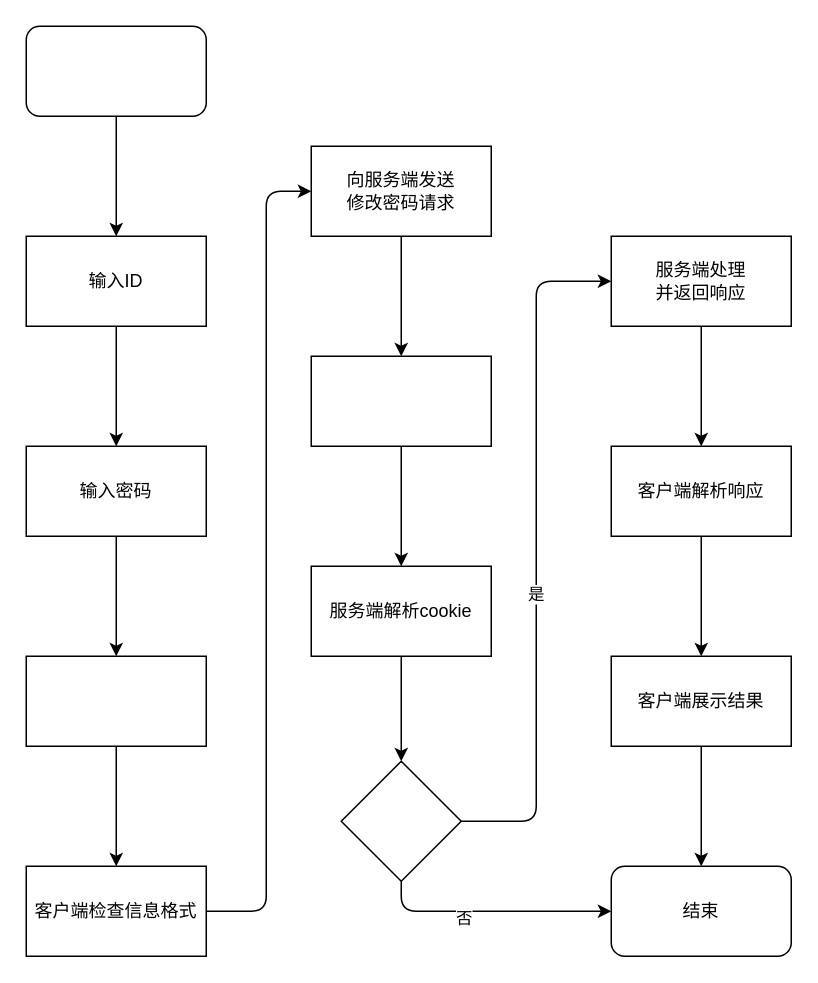
Image size: 818x983. Some labels were removed from this diagram. The centre of each missing label's shape, as x and y in pixels:
"开始" belongs at (x=115, y=70).
"服务端解析数据" belongs at (x=400, y=400).
"确认密码" belongs at (x=115, y=700).
"身份认证通过" belongs at (x=400, y=820).
